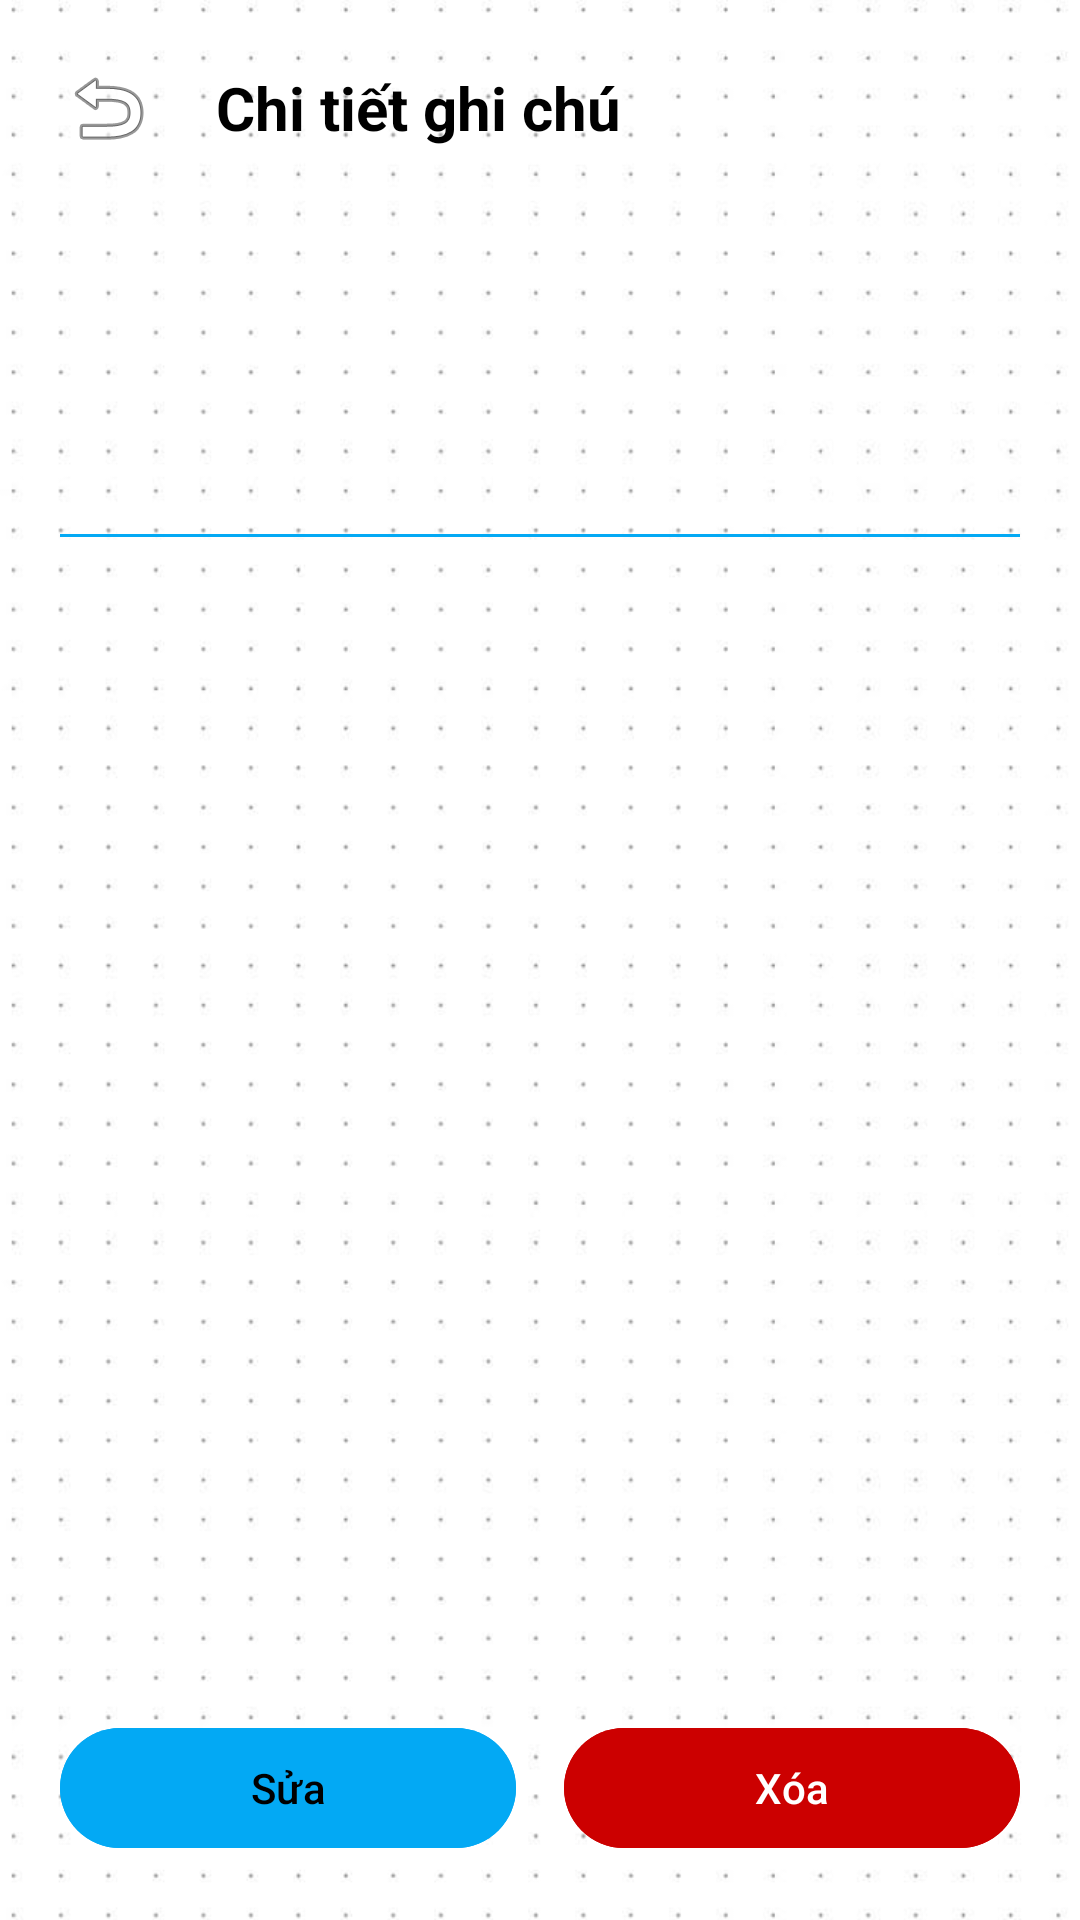

Screen size 1080x1920. Icon name, then its center in pixels as point (x, y):
Quay lại: point (109, 98)
